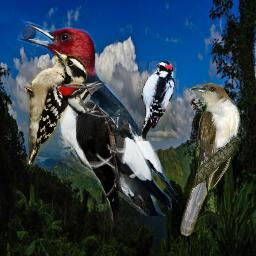Cuckoo: (180, 83, 241, 236)
Woodpecker: (17, 18, 181, 216), (57, 79, 128, 233), (24, 49, 87, 164), (137, 61, 177, 141)
